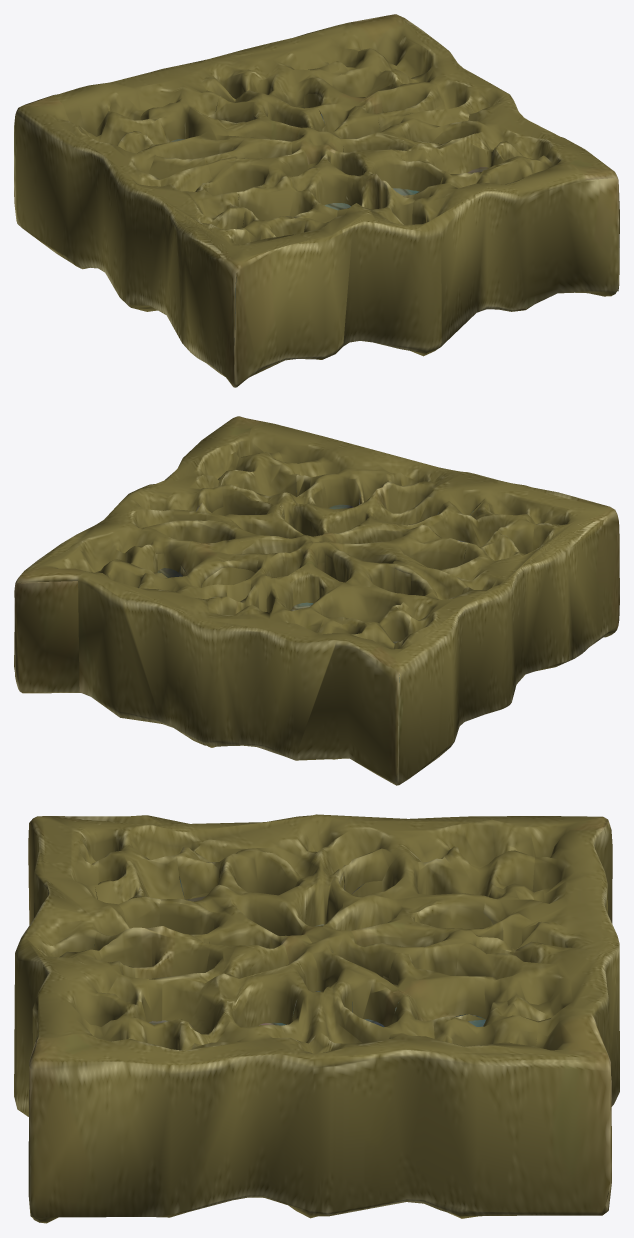
The model's file is tile001V1_lowPolyCompressed.glb.
3 views of the same model, one above another, from view 1: azimuth 30°, elevation 25°; view 2: azimuth 150°, elevation 25°; view 3: azimuth 270°, elevation 25° (orthographic). The views are drawn at different scales.
Visible parts, largest first — view 1: tile1.001; view 2: tile1.001; view 3: tile1.001.
Part boxes in pixels (bbox=[...]): tile1.001: bbox=[14, 14, 619, 387]; tile1.001: bbox=[14, 416, 619, 785]; tile1.001: bbox=[14, 814, 619, 1223].
Size of the model in its own units: 0.9803 by 0.4643 by 1.01.
3 materials, 3 textured.
